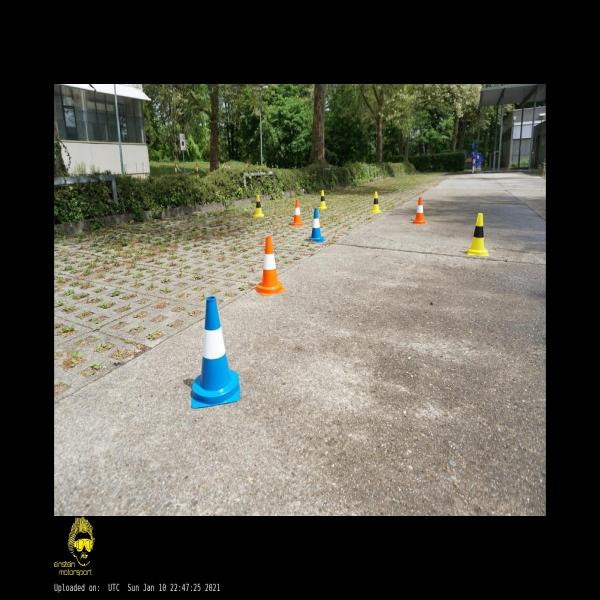blue_cone: (191, 296, 240, 408), (309, 209, 326, 242)
orange_cone: (254, 237, 286, 296), (413, 197, 426, 224), (291, 200, 304, 226)
yellow_cone: (466, 214, 490, 255), (253, 194, 264, 218), (371, 191, 382, 213), (318, 190, 327, 209)
